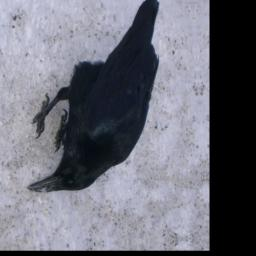Crow: (14, 0, 172, 193)
